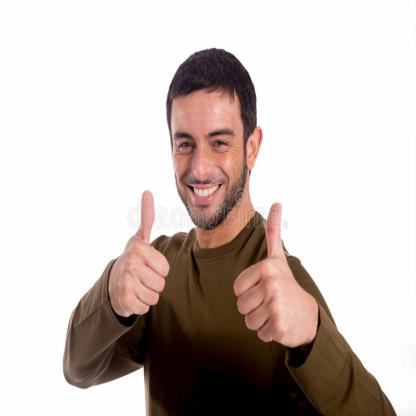Thumbs-Up: (226, 196, 324, 352), (104, 186, 180, 325)
